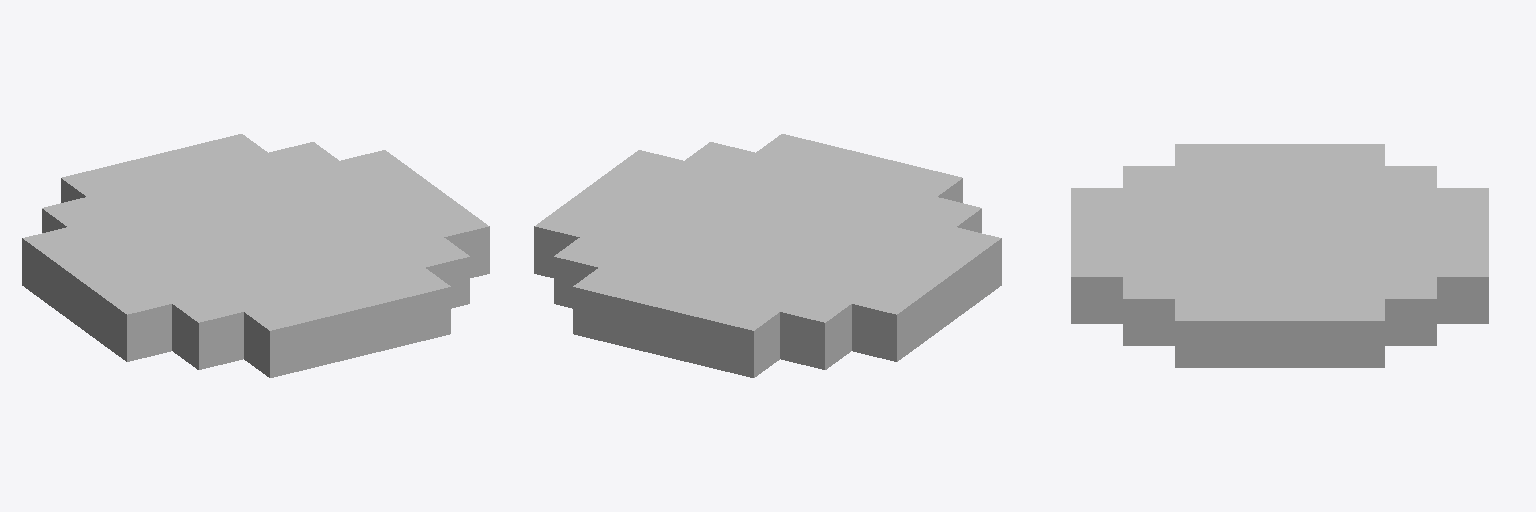
Rendered from knob-0.obj.
3 views of the same model, side by side, from view 1: azimuth 30°, elevation 25°; view 2: azimuth 150°, elevation 25°; view 3: azimuth 270°, elevation 25° (orthographic).
Parts seen in each view (by area): view 1: knob-0; view 2: knob-0; view 3: knob-0.
Part boxes in pixels (left/top/right/bottom): knob-0: left=22, top=134, right=489, bottom=377; knob-0: left=534, top=134, right=1001, bottom=377; knob-0: left=1071, top=144, right=1488, bottom=367.
Bounding box in the file's own units: 16 × 2 × 16.